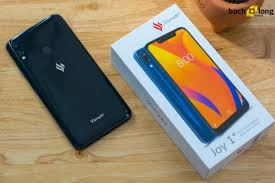vsmart: (6, 12, 134, 156)
